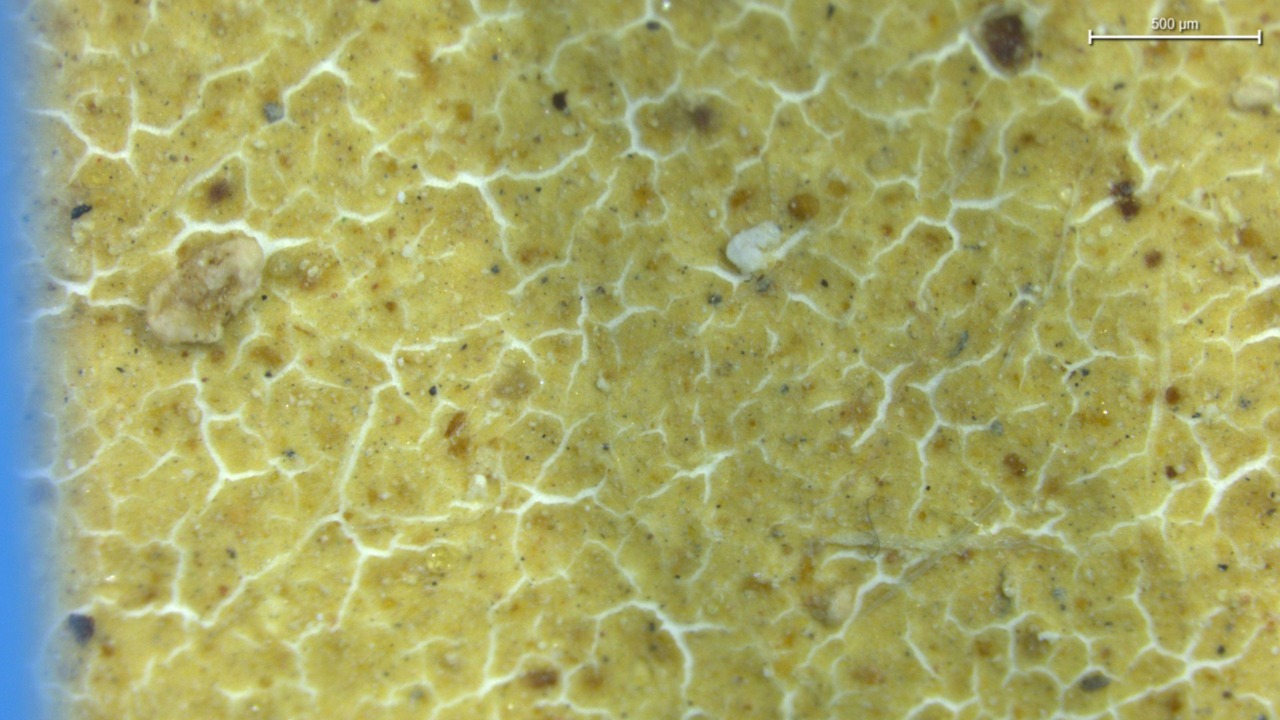microplastic_fragment: (145, 233, 266, 345), (726, 221, 782, 275)
